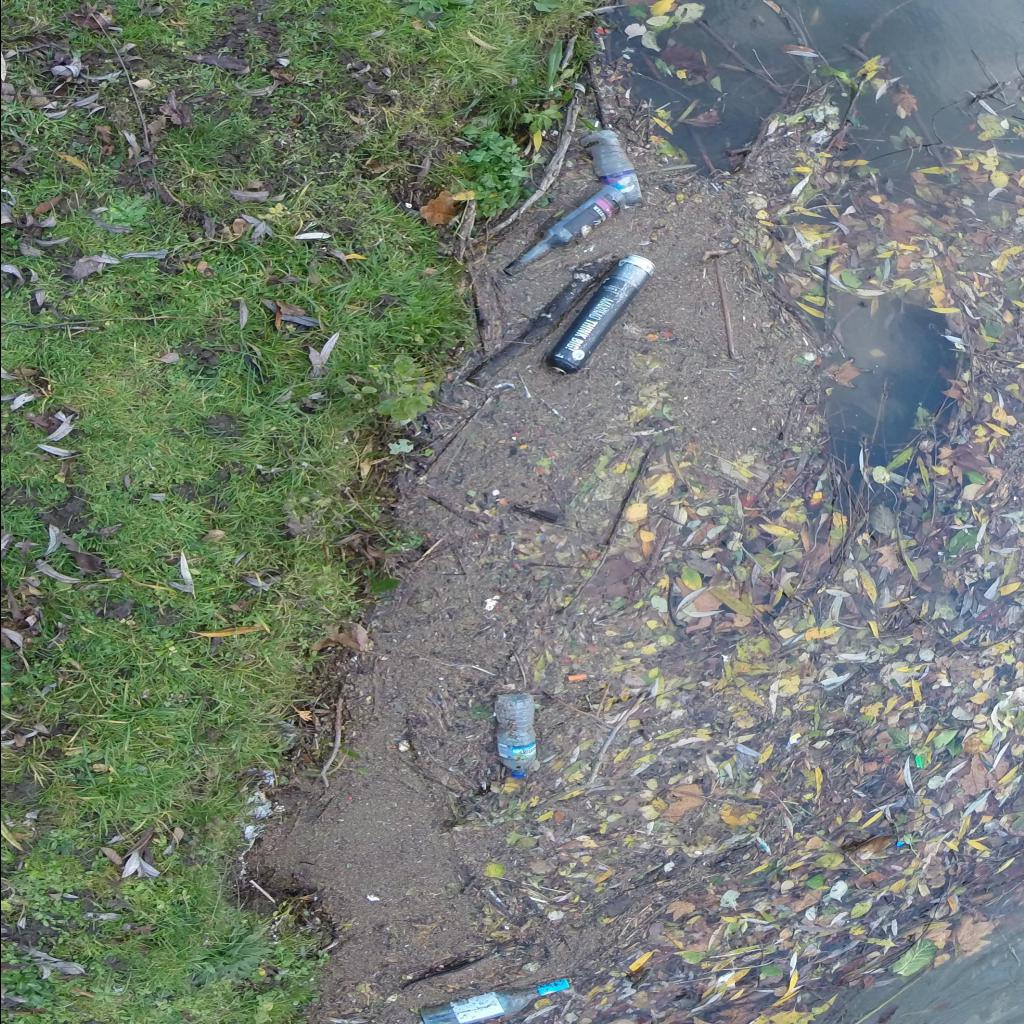Aerosol: (544, 254, 654, 374)
Clear plastic bottle: (580, 130, 642, 206), (494, 692, 536, 778)
Glass bottle: (504, 184, 624, 276), (418, 978, 569, 1023)
